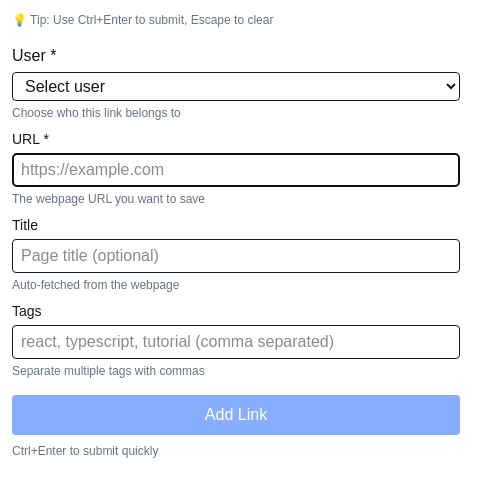
Test: LinkForm › shows error if API returns error
Note: Fill in all required fields
In the field with placeholder "https://example.com": [236, 170] box [12,153,460,187], type "https://test.com"
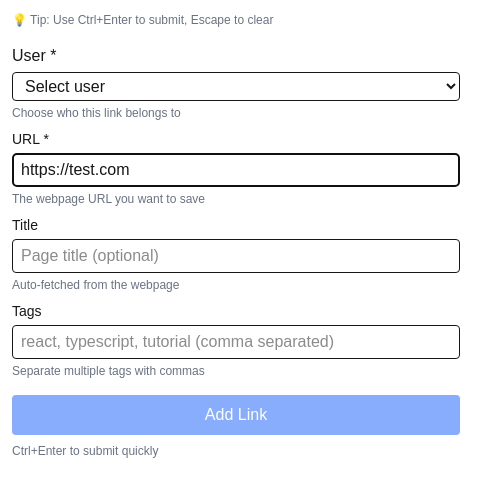
Select "Alice" in the dropdown showing "Select user": [236, 86] box [12,72,460,101]
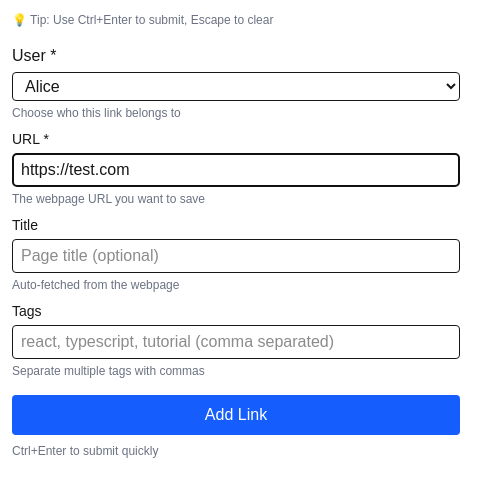
Result: the button "Add Link" is enabled
Click the button "Add Link": [236, 415] box [12,395,460,435]
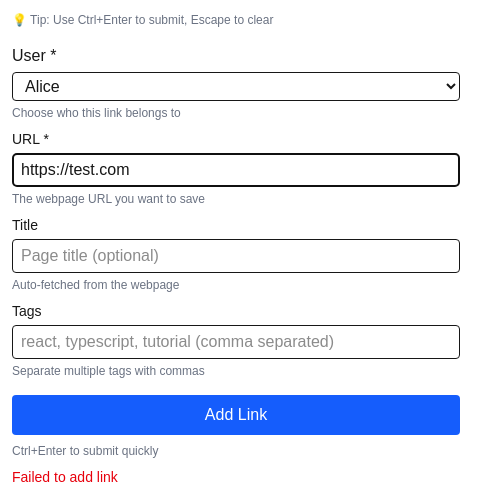
Result: the text "Failed to add link" is shown at [12,469,118,485]
